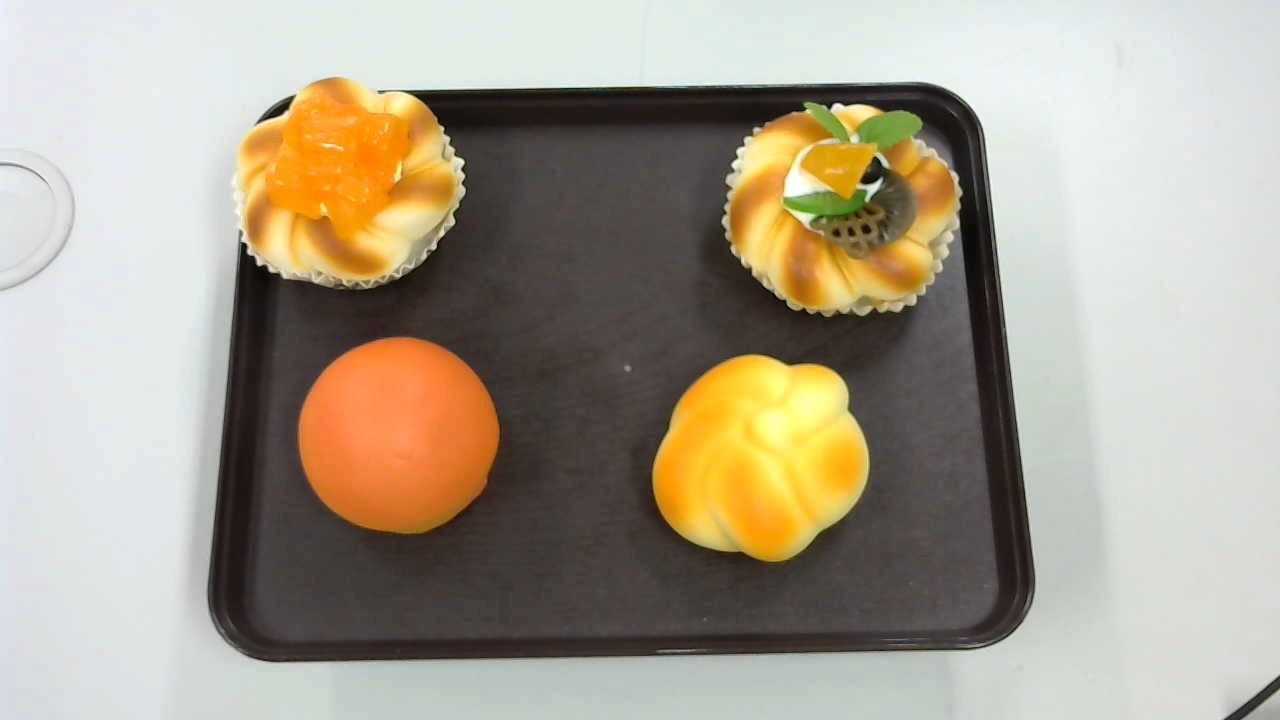bun: (297, 336, 499, 535)
fruit tart: (725, 100, 962, 318)
mango tart: (232, 76, 467, 292)
twist bread: (653, 355, 871, 563)
